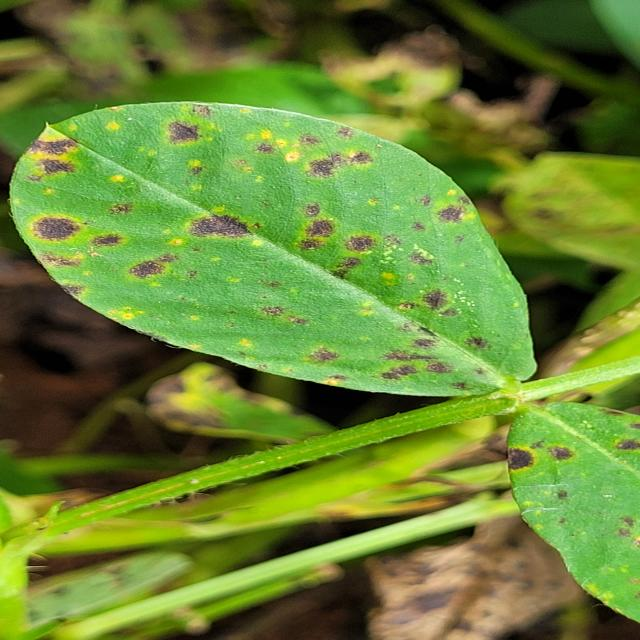Ground nut_tikka leaf spot: (4, 98, 546, 404)
